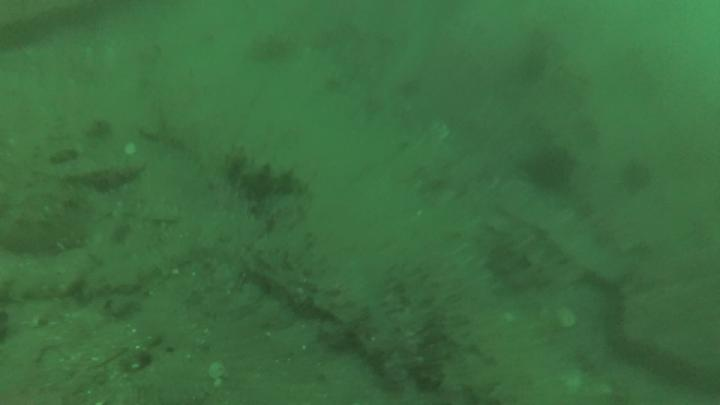echinus: (524, 143, 574, 190), (624, 162, 650, 193)
holothurian: (229, 145, 305, 199), (1, 213, 88, 253), (3, 264, 86, 302)
